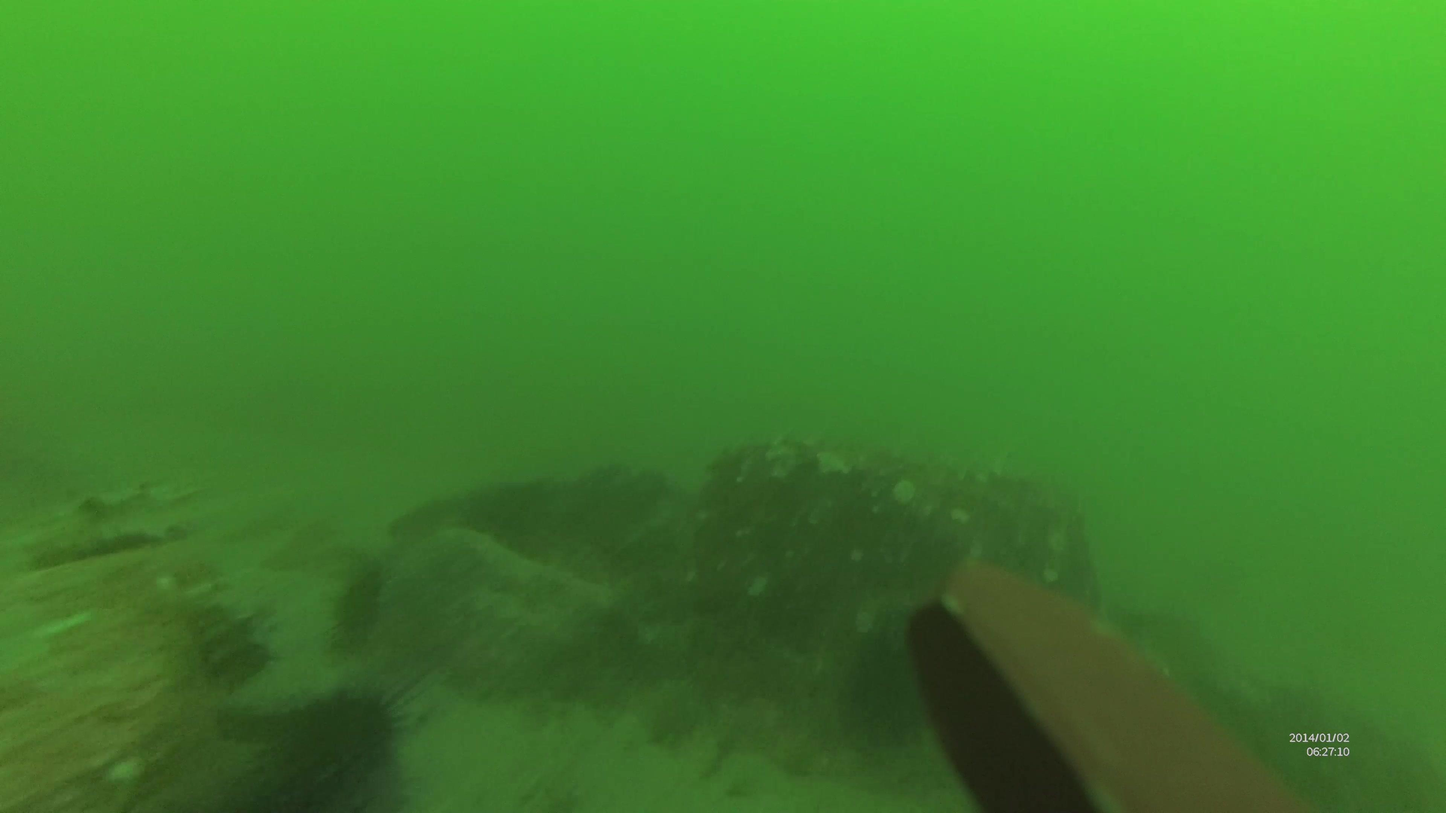echinus: (25, 479, 211, 569)
starfish: (224, 662, 436, 810)
